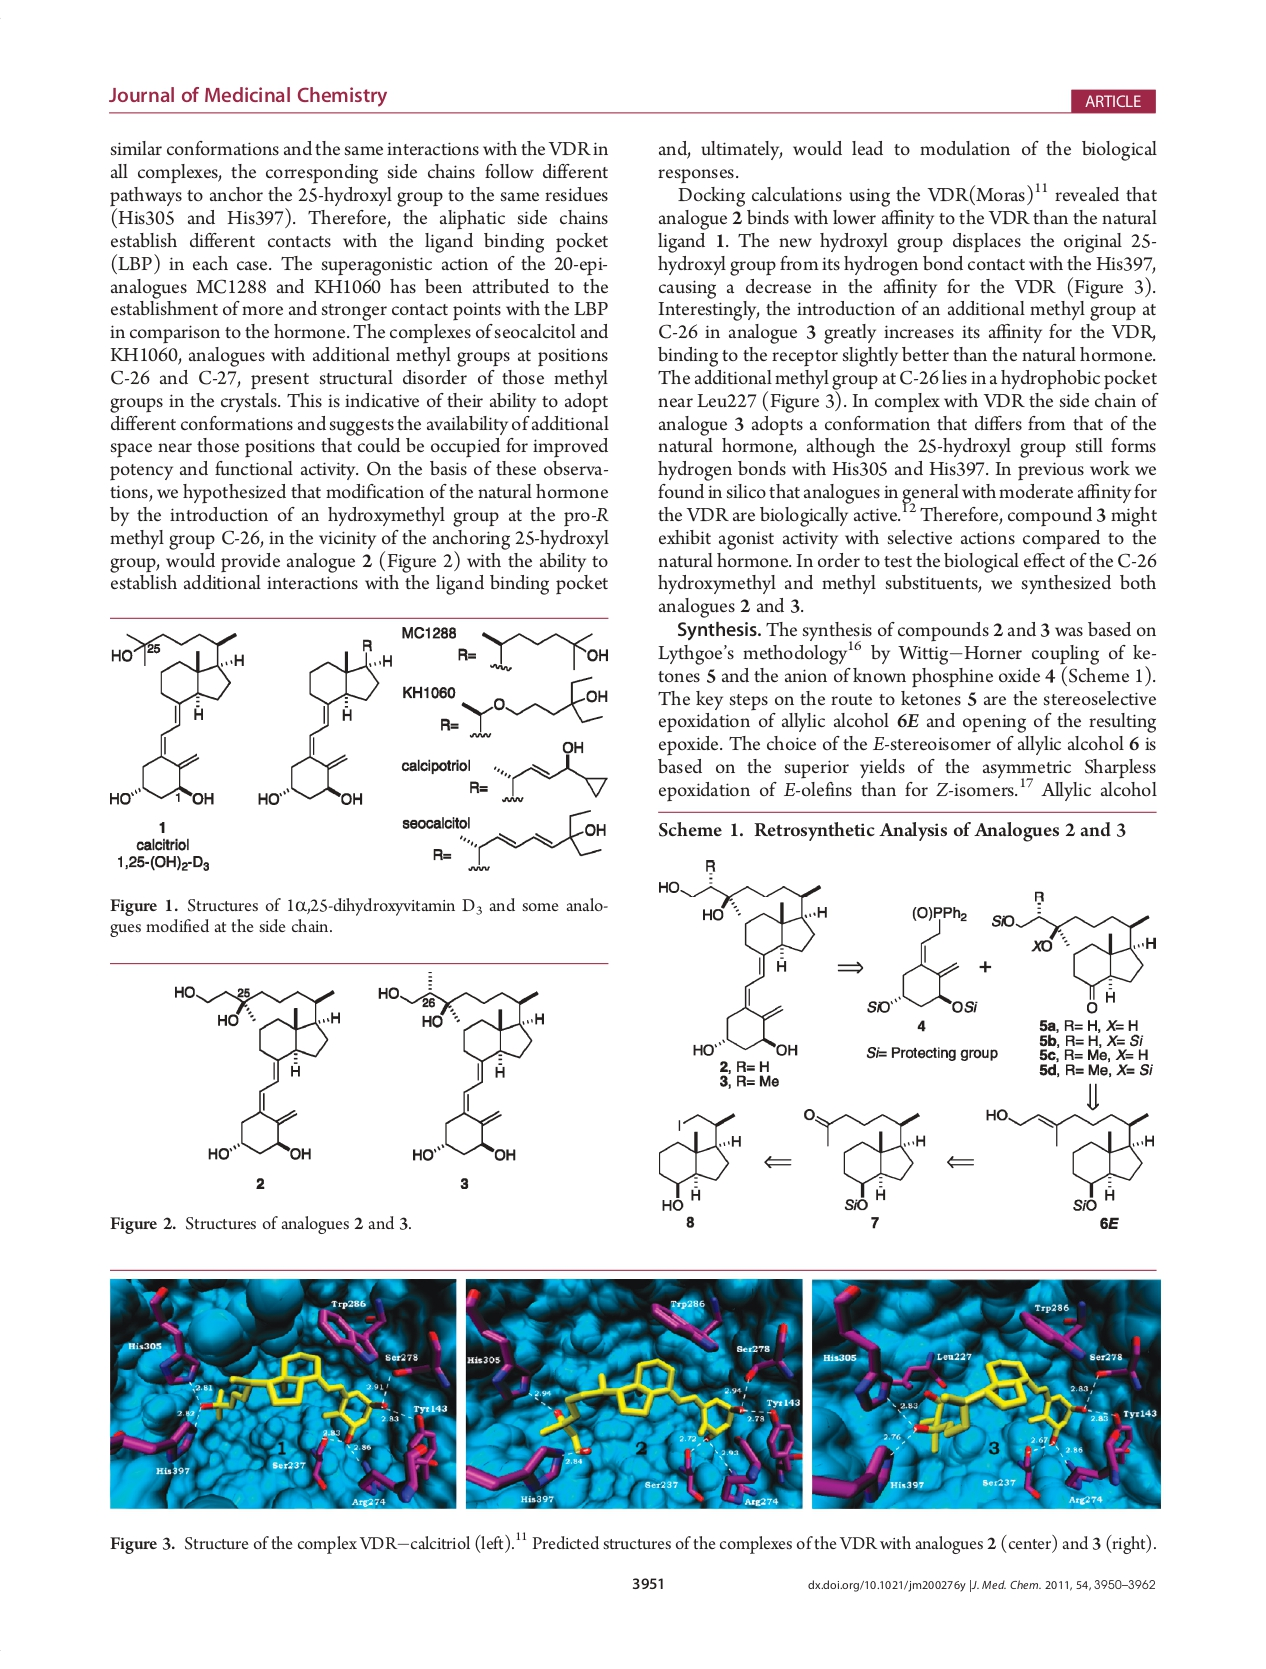exist_molecular: (656, 852, 830, 1060), (375, 969, 547, 1168), (170, 977, 343, 1168), (106, 630, 246, 809), (255, 634, 396, 809), (989, 888, 1160, 1013), (983, 1106, 1156, 1213), (803, 1104, 928, 1213), (866, 902, 981, 1017), (457, 807, 610, 874), (460, 674, 609, 739), (652, 1109, 743, 1212), (492, 739, 610, 805), (479, 626, 610, 674)
